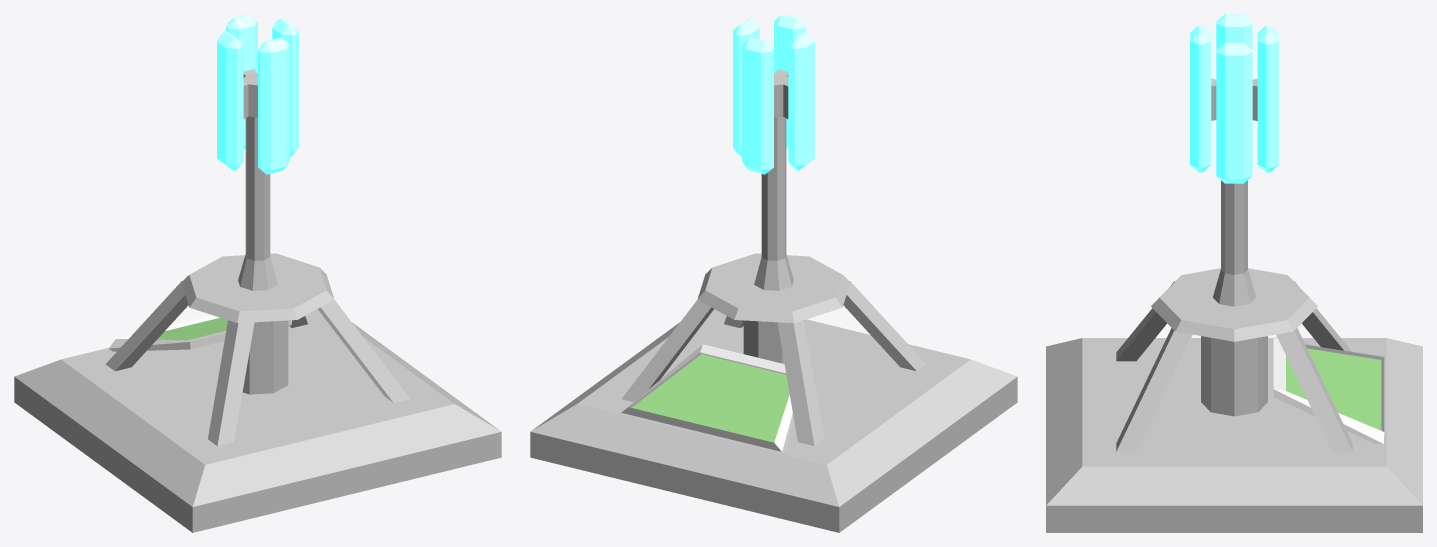
The model's file is atenna.fbx.
3 renders of one model, left to right at view 1: azimuth 30°, elevation 25°; view 2: azimuth 150°, elevation 25°; view 3: azimuth 270°, elevation 25°, orthographic. The views are drawn at different scales.
Parts seen in each view (by area): view 1: antenna_legs.003; view 2: antenna_legs.003; view 3: antenna_legs.003.
Part boxes in pixels (<box>): antenna_legs.003: <box>14,14,501,532</box>; antenna_legs.003: <box>530,14,1017,532</box>; antenna_legs.003: <box>1046,14,1422,532</box>.
Bounding box in the file's own units: 186 × 231 × 186.
